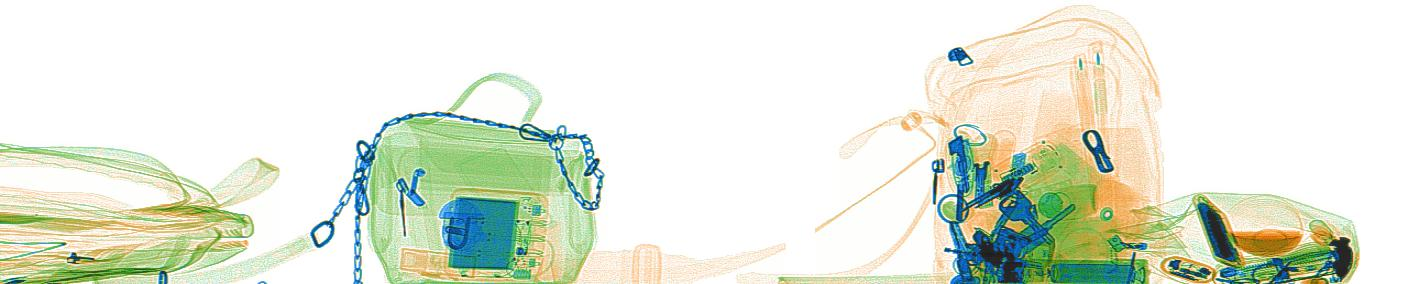battery: (1049, 260, 1138, 280)
